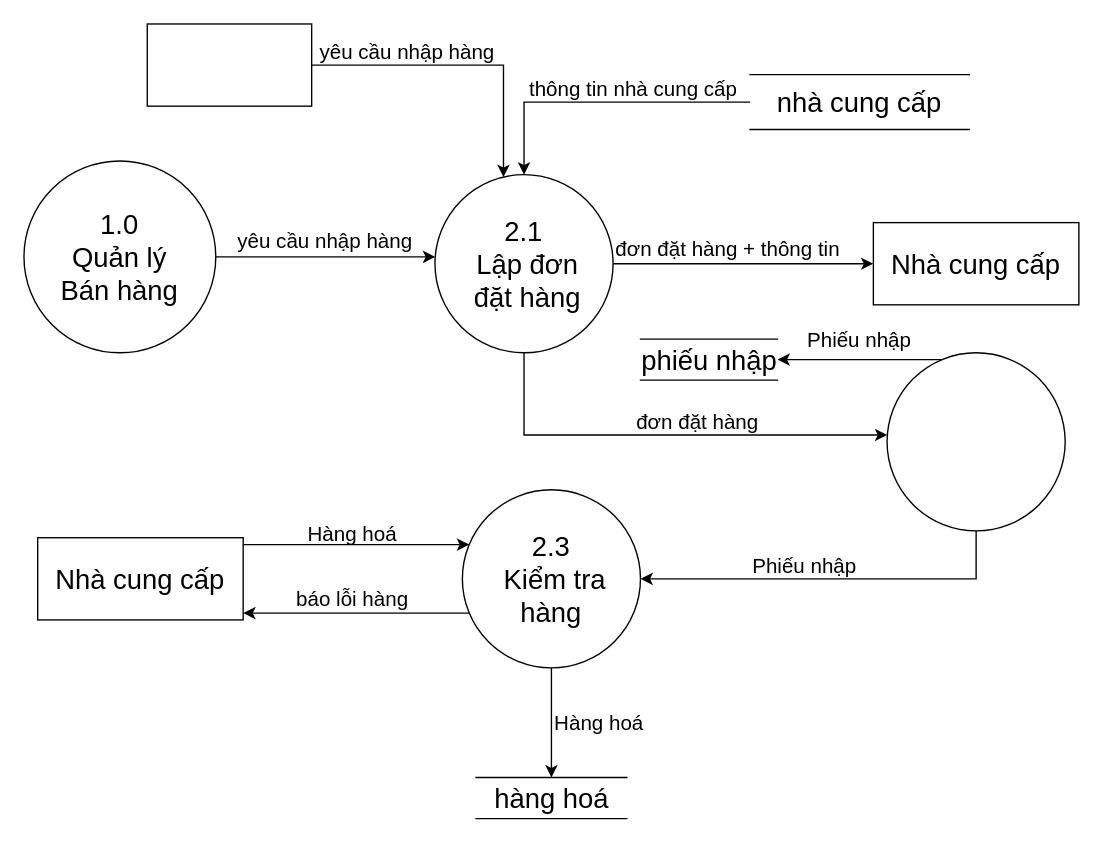
Image size: 1103x843. Some labels were removed from this diagram. Each missing label, with the centre of its shape:
2.2 Lập phiếu nhập hàng: point 975,441
Quản lý: point 229,64
